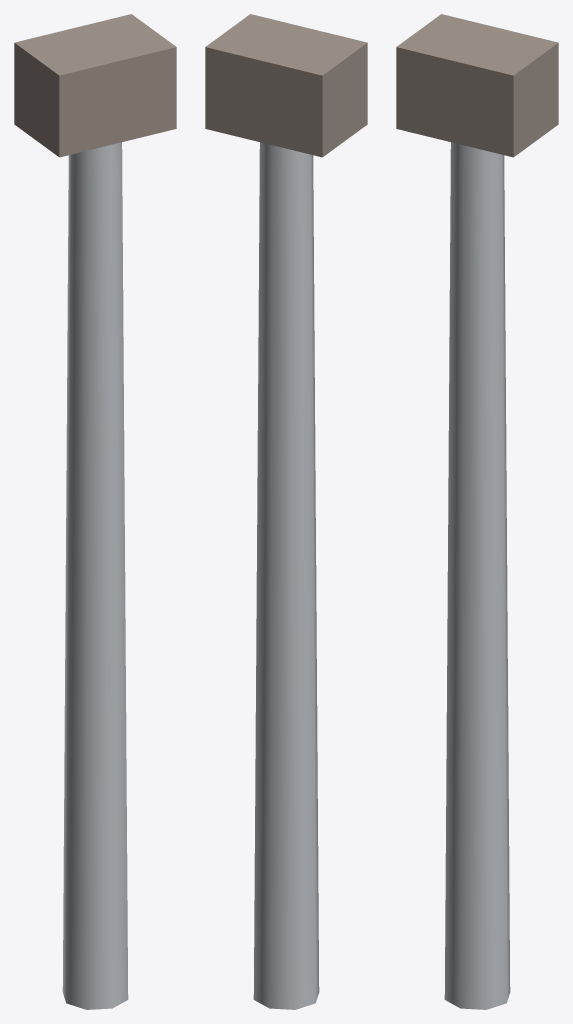
Rendered from prop.glb.
3 renders of one model, left to right at view 1: azimuth 30°, elevation 25°; view 2: azimuth 150°, elevation 25°; view 3: azimuth 330°, elevation 25°, orthographic.
Visible parts, largest first — view 1: Metal, Cloth; view 2: Metal, Cloth; view 3: Metal, Cloth.
Boxes of the visible parts, <box> form: Metal: <box>62,142,128,1009</box>; Cloth: <box>14,14,176,157</box>; Metal: <box>253,142,319,1009</box>; Cloth: <box>205,14,367,157</box>; Metal: <box>444,142,510,1009</box>; Cloth: <box>396,14,558,157</box>.
Size of the model in its own units: 0.06 by 0.465 by 0.04.
